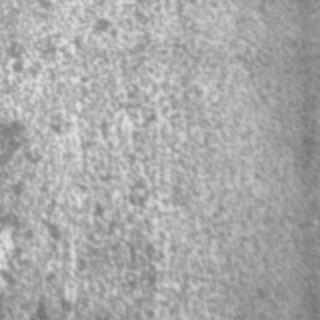pitted_surface: (0, 1, 204, 300)
